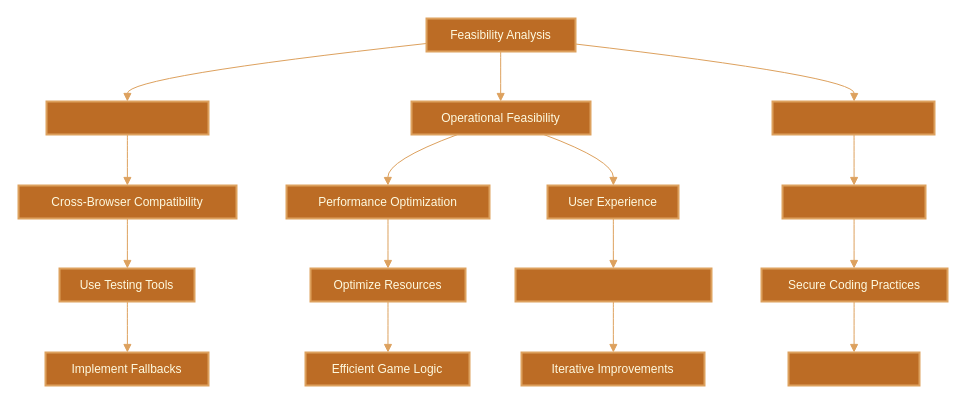
This 965x403 diagram has some shape labels left out. Here are the shapes that lost their labels. From the top down, the centre of each, then its label:
At [127,117]: "Technical Feasibility".
At [853,117]: "Economic Feasibility".
At [853,201]: "Security Concerns".
At [613,284]: "Conduct Usability Testing".
At [853,368]: "Regular Updates".
